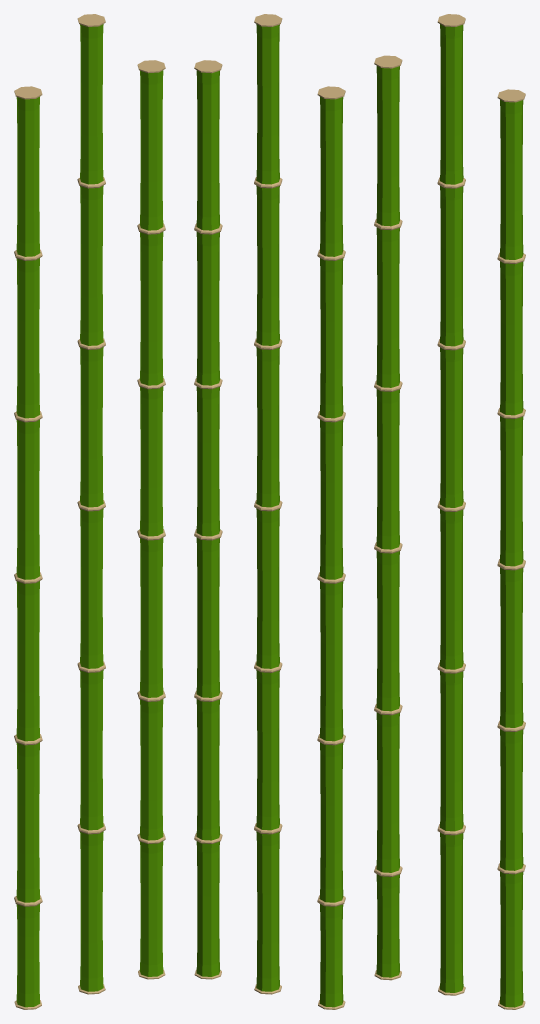
3 views of the same model, side by side, from view 1: azimuth 30°, elevation 25°; view 2: azimuth 150°, elevation 25°; view 3: azimuth 330°, elevation 25° (orthographic).
Visible parts, largest first — view 1: Node; view 2: Node; view 3: Node.
Boxes of the visible parts, box(x1,y1,x2,y2) form: Node: box(14, 14, 165, 1009); Node: box(194, 14, 345, 1009); Node: box(374, 14, 525, 1009).
Size of the model in its own units: 1.75 by 10.91 by 0.3019.
